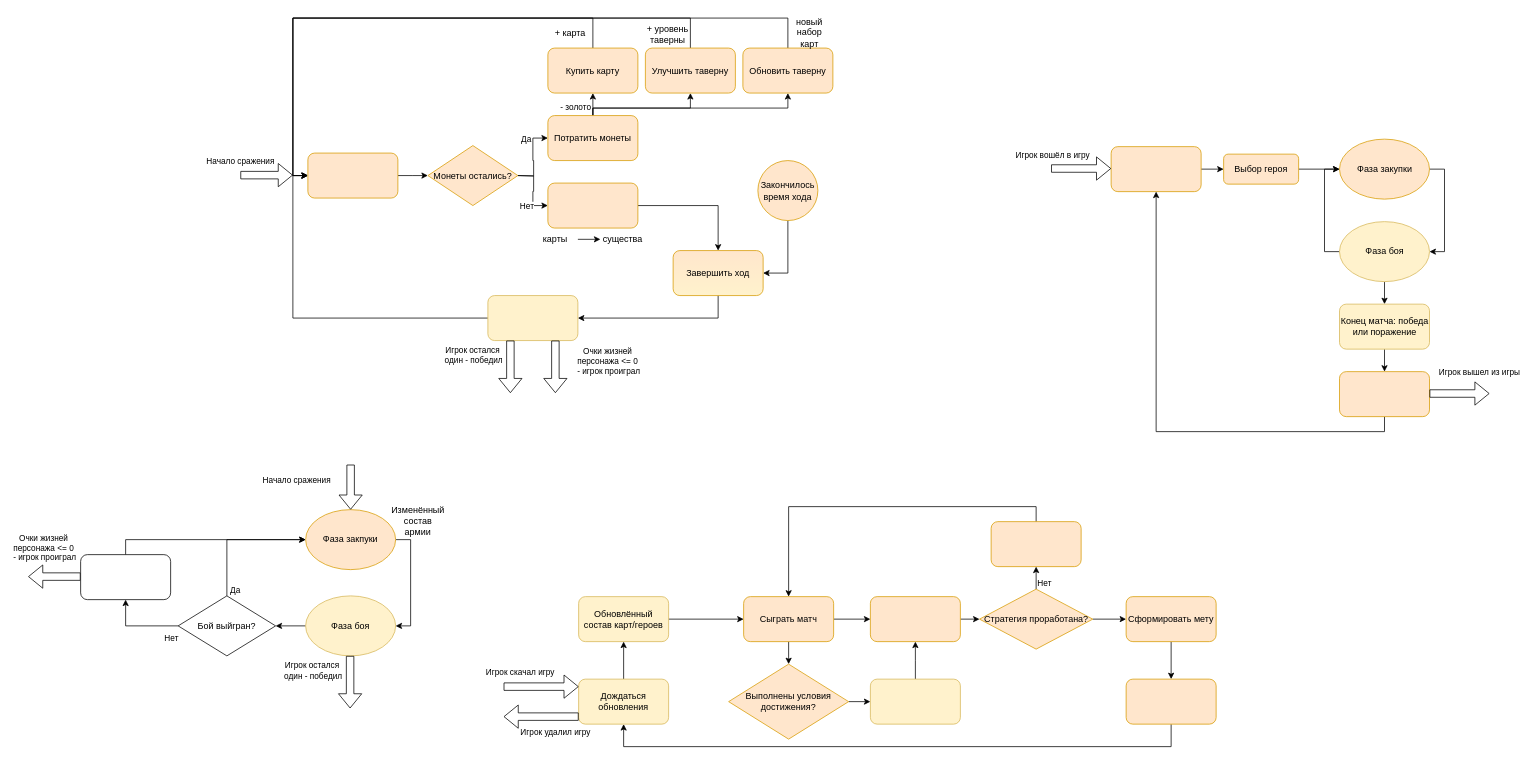
This 1533x767 diagram has some shape labels left out. The shapes that lost their labels are listed below. From the top down, each one's box as (x1, y1, x2, y2) in pixels, then its label:
(307, 152, 398, 198): Оценка таверны
(1110, 146, 1201, 192): Начать матч
(547, 182, 638, 228): Изменение стола
(487, 295, 578, 341): Наблюдать
(1339, 371, 1430, 417): Анализ стратегии
(990, 521, 1081, 567): Усовершенствовать стратегию
(80, 554, 171, 600): Получить урон от противника
(870, 596, 960, 642): Анализ матча
(870, 678, 960, 724): Получить достижение
(1125, 678, 1216, 724): Поделиться с сообществом
